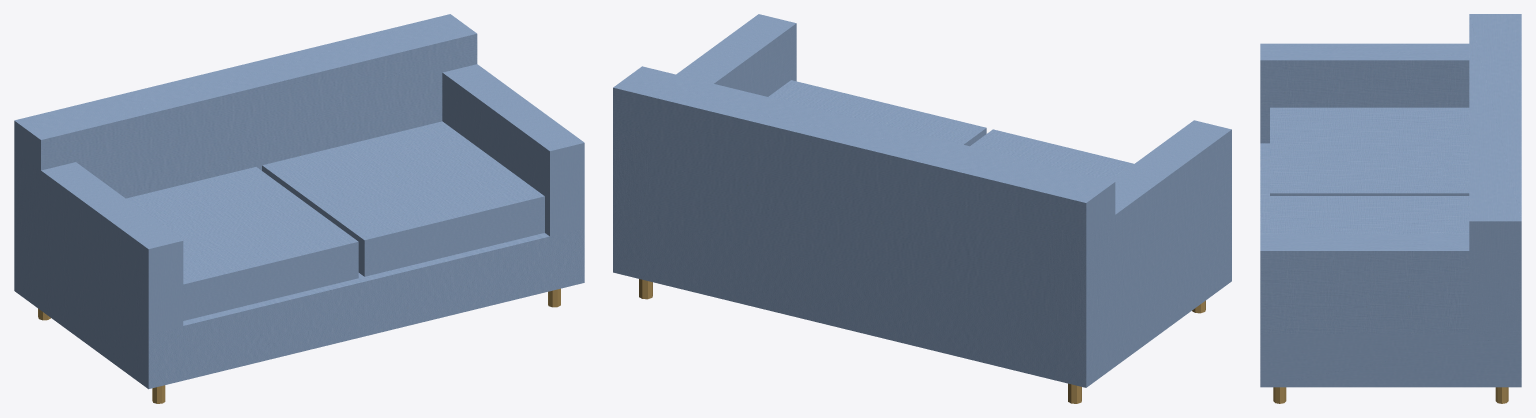
Rendered from sofa_2_lugares.glb.
3 views of the same model, side by side, from view 1: azimuth 30°, elevation 25°; view 2: azimuth 150°, elevation 25°; view 3: azimuth 270°, elevation 25° (orthographic). The views are drawn at different scales.
Parts seen in each view (by area): view 1: sofa_2_lugares; view 2: sofa_2_lugares; view 3: sofa_2_lugares.
Part boxes in pixels (x1,y1,x2,y2): sofa_2_lugares: (14,14,584,403); sofa_2_lugares: (613,14,1231,403); sofa_2_lugares: (1260,14,1521,403).
Bounding box in the file's own units: 1.5 × 0.64 × 0.8.
2 materials, 1 textured.
